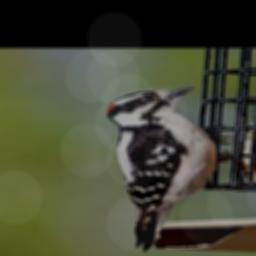Woodpecker: (103, 86, 234, 254)
